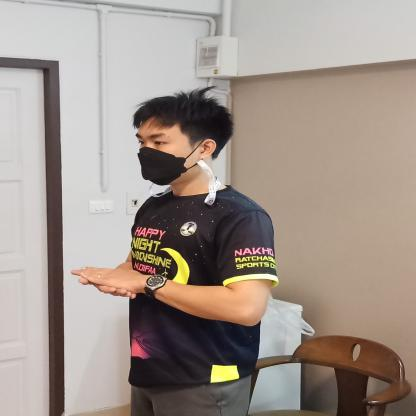Love: (46, 236, 207, 324)
